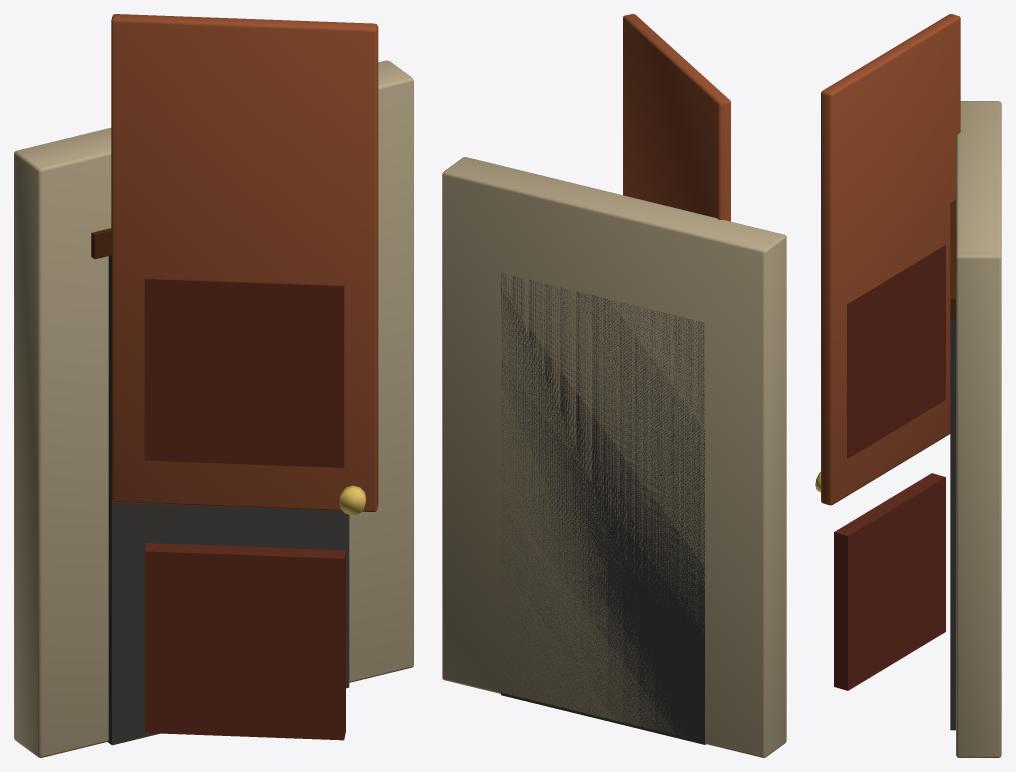
File: door.glb
The picture shows the model from 3 angles, left to right: view 1: azimuth 30°, elevation 25°; view 2: azimuth 150°, elevation 25°; view 3: azimuth 270°, elevation 25°; orthographic projection. The views are drawn at different scales.
Parts seen in each view (by area): view 1: leaf, wall, panel, panel.001, hole, knob; view 2: wall, hole, leaf; view 3: leaf, wall, panel, panel.001, hole, frame.
Boxes of the visible parts, x1,y1,x2,y2 form: leaf: [111, 14, 378, 511]; wall: [14, 60, 413, 757]; panel: [144, 543, 345, 740]; panel.001: [144, 278, 344, 467]; hole: [108, 255, 349, 745]; knob: [339, 485, 366, 515]; wall: [442, 157, 786, 757]; hole: [501, 273, 705, 744]; leaf: [623, 14, 730, 221]; leaf: [821, 14, 960, 505]; wall: [956, 101, 1001, 757]; panel: [834, 473, 945, 690]; panel.001: [847, 245, 945, 458]; hole: [950, 319, 955, 730]; frame: [950, 200, 955, 319].
Bounding box in the file's own units: 1.3 × 2.4 × 0.6549.
